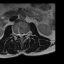CCS_normal: (20, 32, 22, 39)
LFS_normal: (24, 31, 26, 36)
LLS_normal: (22, 31, 24, 38)
RFS_normal: (15, 31, 18, 37)
RLS_normal: (18, 32, 20, 38)
